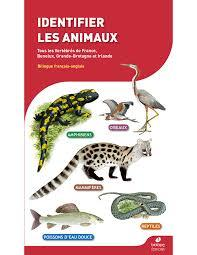Non_Gorille: (28, 11, 179, 188)
